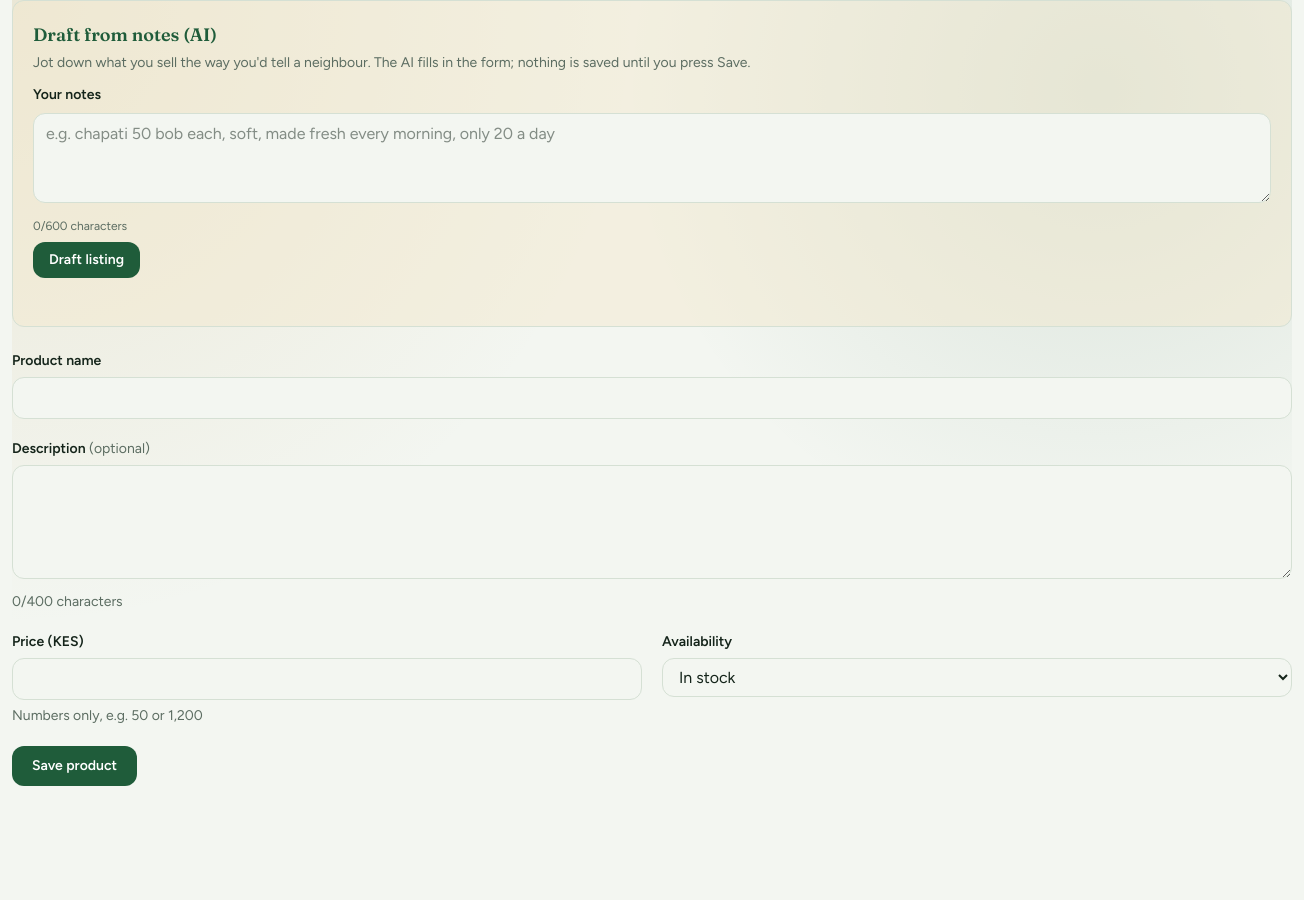
ProductForm › fills the form from an AI draft without saving it
Type "chapati, soft, only 20 a day" into the text box labelled "Your notes" at (652, 158), box [33,113,1271,203]
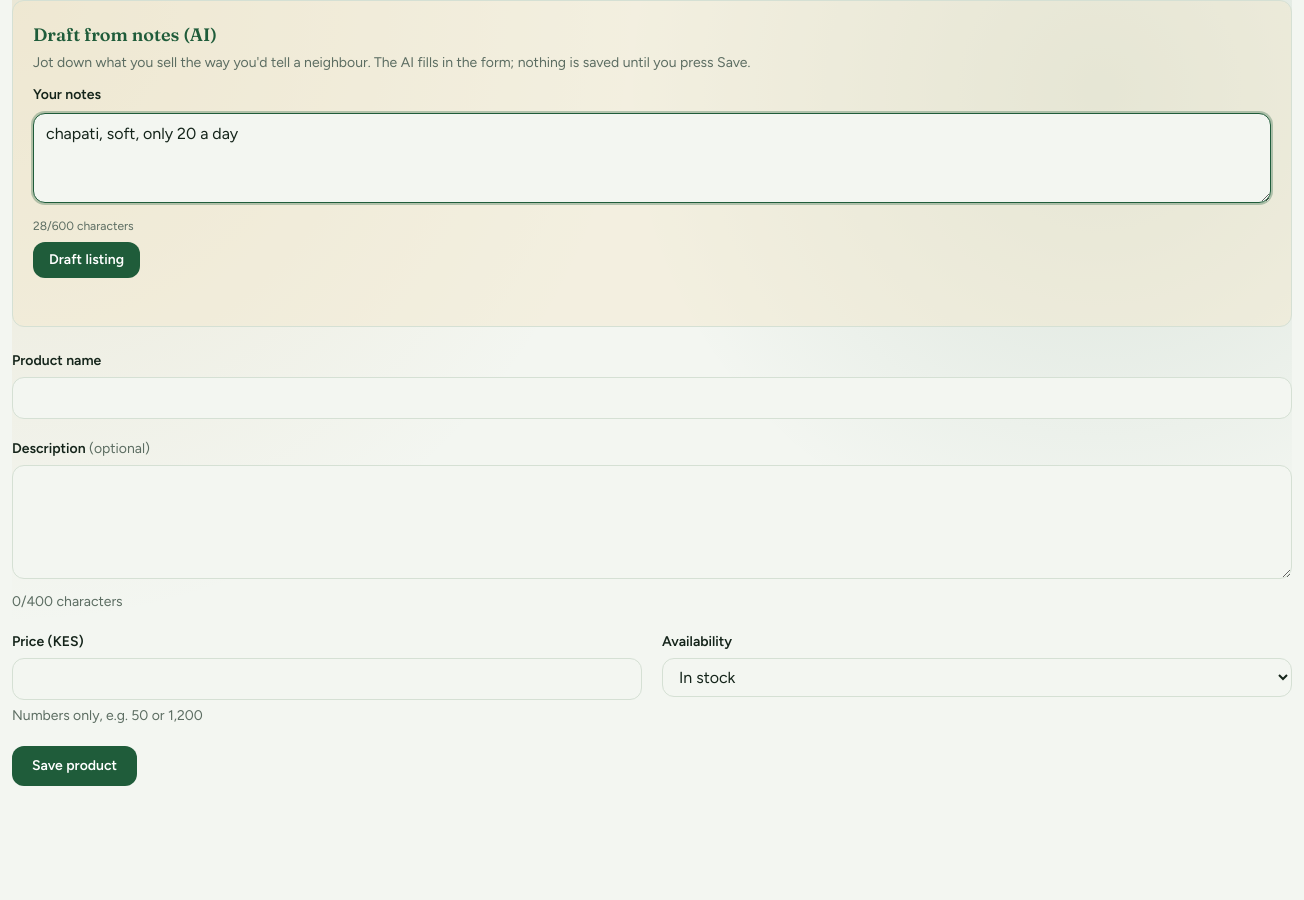
Click the button "Draft listing" at (86, 260), box [33,242,140,278]
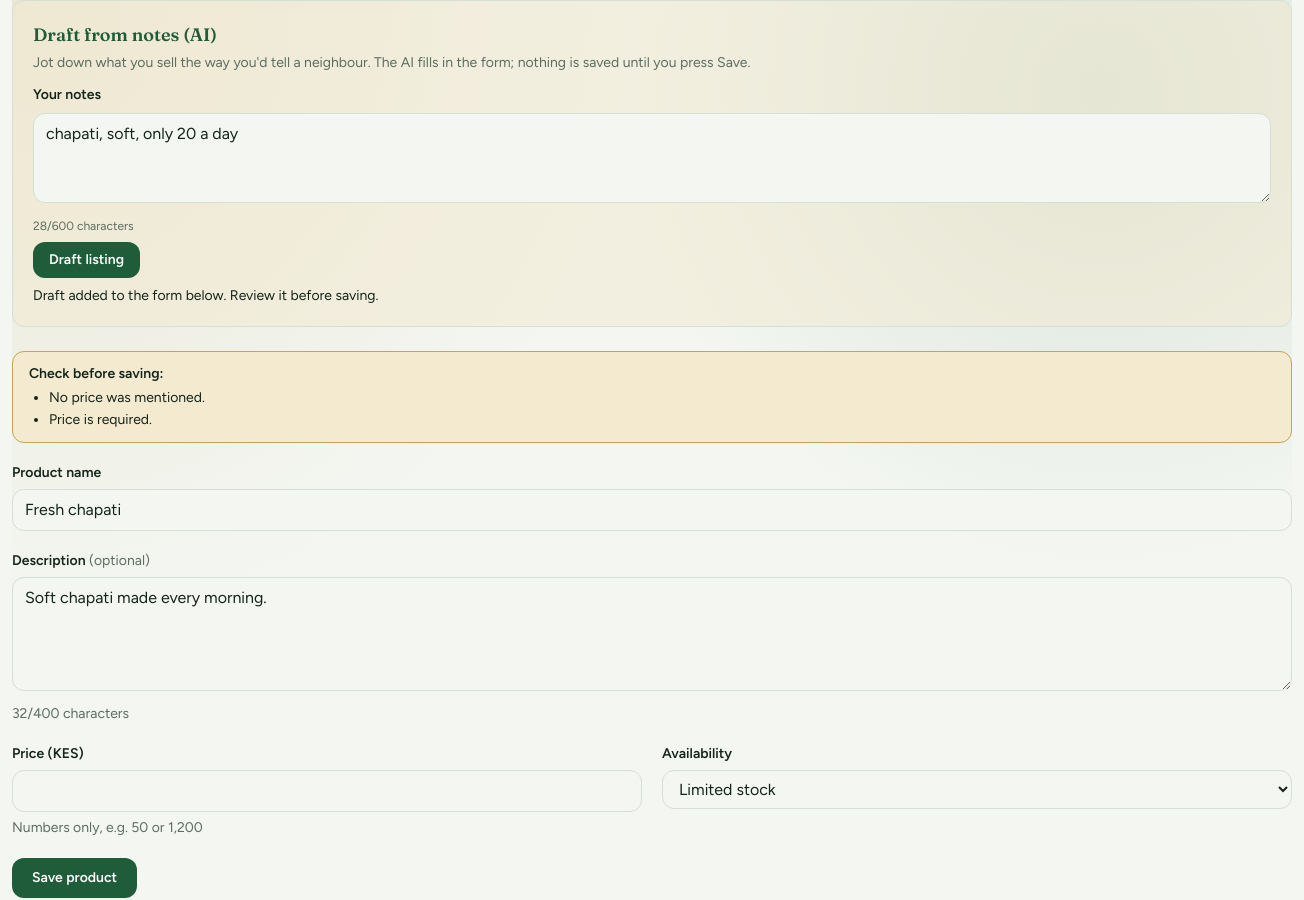
Check: the field showing "Fresh chapati" is shown, box [12,489,1292,531]
Check: the dropdown labelled "Availability" shows "Limited stock", box [662,770,1292,809]
Check: the list item "No price was mentioned." is shown, box [49,389,205,406]
